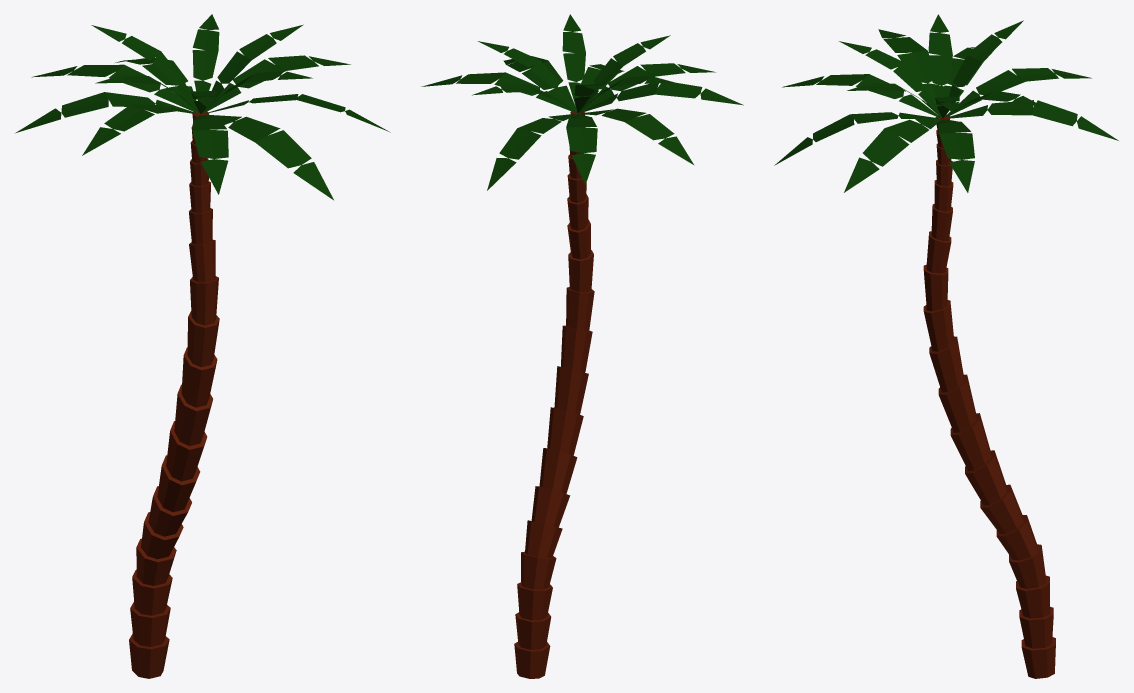
Rendered from palm_tree_2.obj.
3 renders of one model, left to right at view 1: azimuth 30°, elevation 25°; view 2: azimuth 150°, elevation 25°; view 3: azimuth 270°, elevation 25°, orthographic. The views are drawn at different scales.
Visible parts, largest first — view 1: Plane.009_Plane.002, Cube_Cube.002; view 2: Cube_Cube.002, Plane.009_Plane.002; view 3: Plane.009_Plane.002, Cube_Cube.002.
Part boxes in pixels (left/top/right/bottom): Plane.009_Plane.002: left=15, top=14, right=390, bottom=200; Cube_Cube.002: left=129, top=110, right=219, bottom=678; Cube_Cube.002: left=514, top=111, right=594, bottom=678; Plane.009_Plane.002: left=421, top=14, right=743, bottom=190; Plane.009_Plane.002: left=774, top=14, right=1118, bottom=192; Cube_Cube.002: left=923, top=114, right=1055, bottom=678.
Size of the model in its own units: 26.03 by 51.54 by 25.93.
